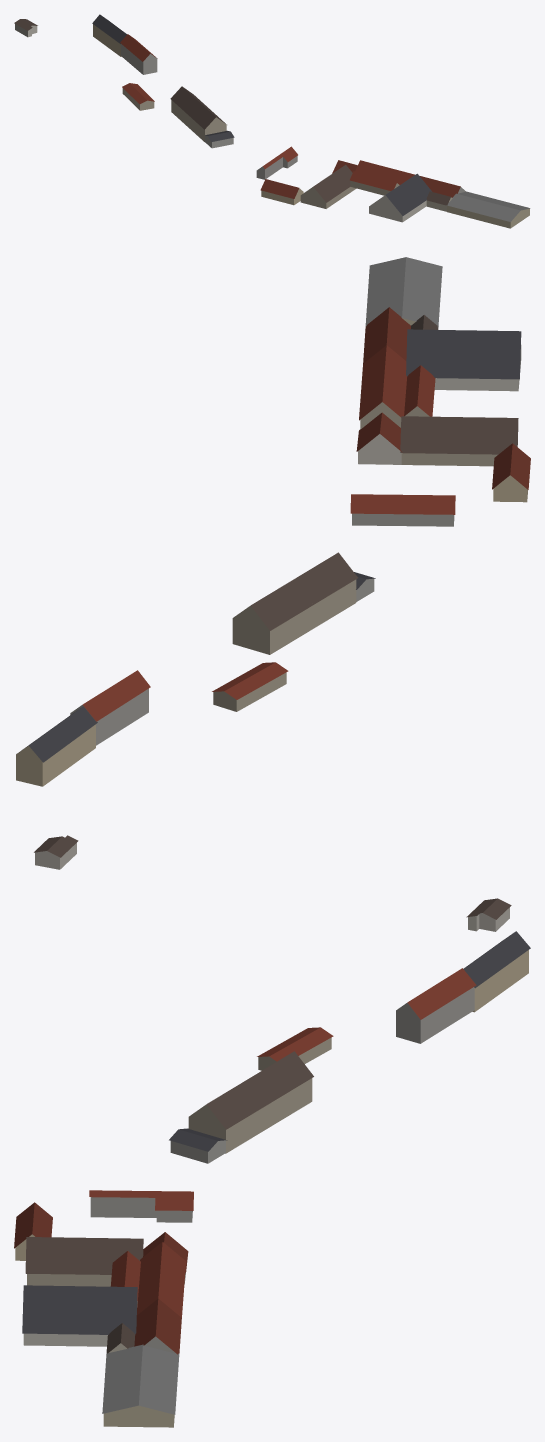
3 views of the same model, one above another, from view 1: azimuth 30°, elevation 25°; view 2: azimuth 150°, elevation 25°; view 3: azimuth 330°, elevation 25° (orthographic). The views are drawn at different scales.
Parts seen in each view (by area): view 1: buildings; view 2: buildings; view 3: buildings.
Boxes of the visible parts, x1,y1,x2,y2 form: buildings: (14,14,530,228); buildings: (16,257,530,869); buildings: (14,898,530,1427).
Size of the model in its own units: 82.71 by 19.67 by 283.
